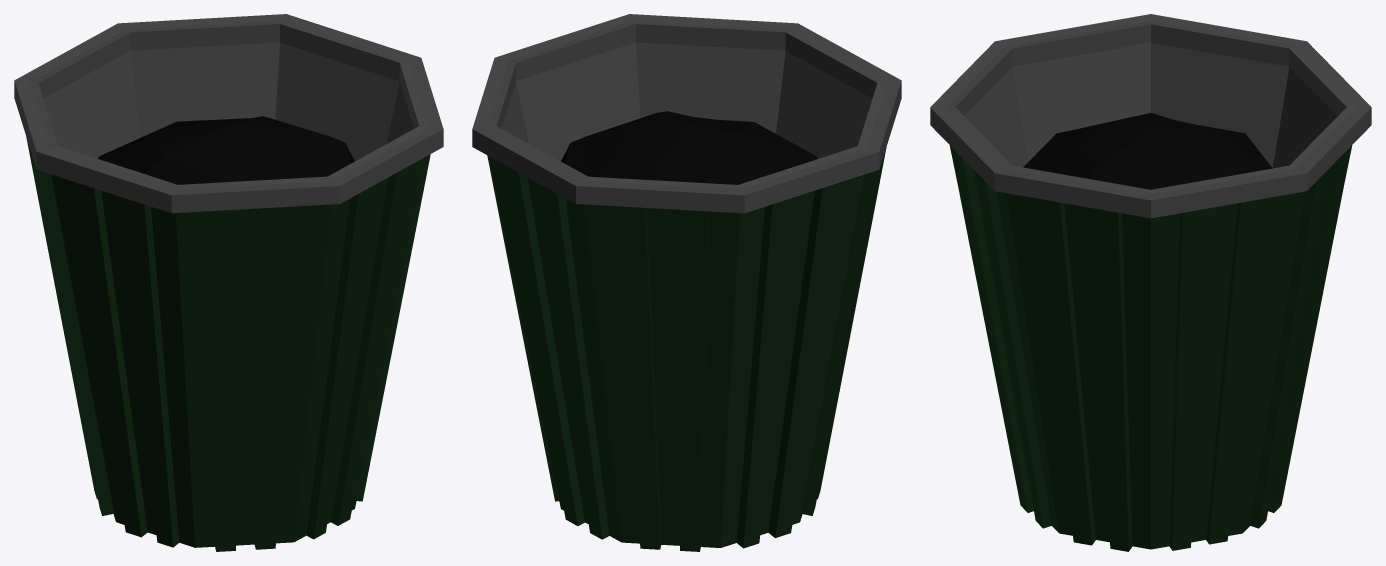
Rendered from trash-can.fbx.
The picture shows the model from 3 angles, left to right: view 1: azimuth 30°, elevation 25°; view 2: azimuth 150°, elevation 25°; view 3: azimuth 270°, elevation 25°; orthographic projection.
Parts seen in each view (by area): view 1: Cylinder.001, Cylinder, Sphere; view 2: Cylinder.001, Cylinder, Sphere; view 3: Cylinder.001, Cylinder, Sphere.
Boxes of the visible parts, bbox=[...] form: Cylinder.001: bbox=[26, 42, 430, 551]; Cylinder: bbox=[14, 14, 443, 213]; Sphere: bbox=[98, 116, 354, 184]; Cylinder.001: bbox=[487, 42, 886, 551]; Cylinder: bbox=[472, 14, 901, 213]; Sphere: bbox=[561, 111, 817, 184]; Cylinder.001: bbox=[949, 42, 1352, 551]; Cylinder: bbox=[930, 14, 1371, 218]; Sphere: bbox=[1023, 113, 1272, 189].
Size of the model in its own units: 215 by 209 by 215.
